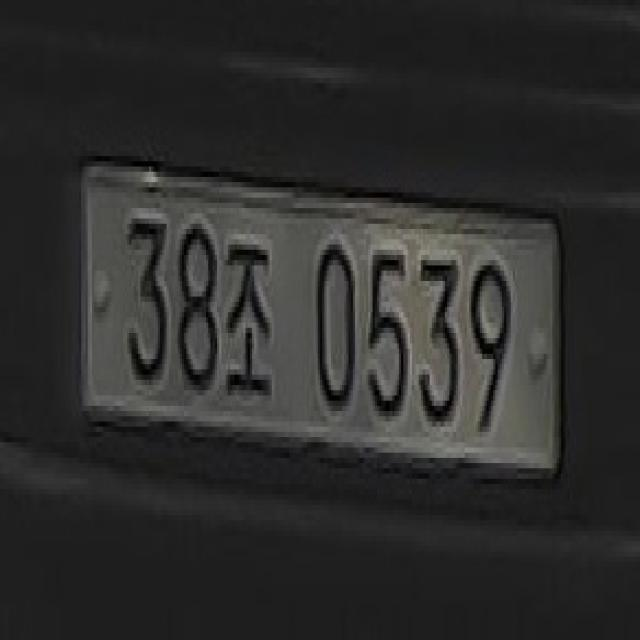plat: (77, 158, 566, 484)
